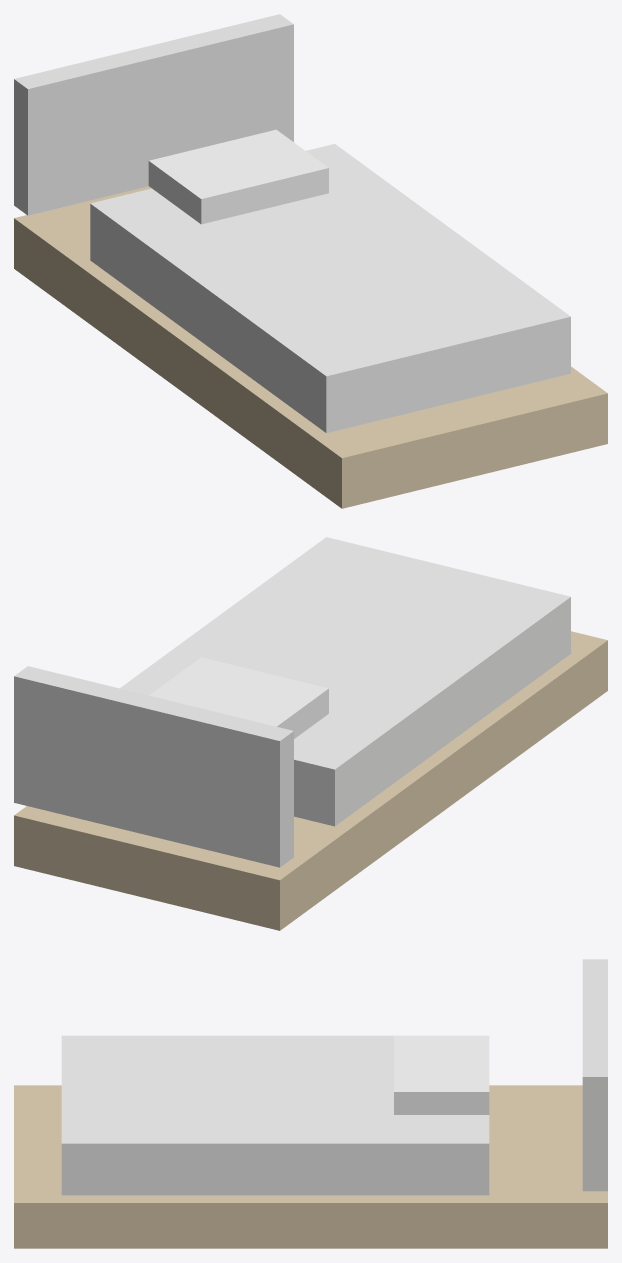
File: cama-solteiro.glb
3 renders of one model, top to bottom at view 1: azimuth 30°, elevation 25°; view 2: azimuth 150°, elevation 25°; view 3: azimuth 270°, elevation 25°, orthographic. The views are drawn at different scales.
Bounding box in the file's own units: 0.88 × 0.6 × 1.88.
